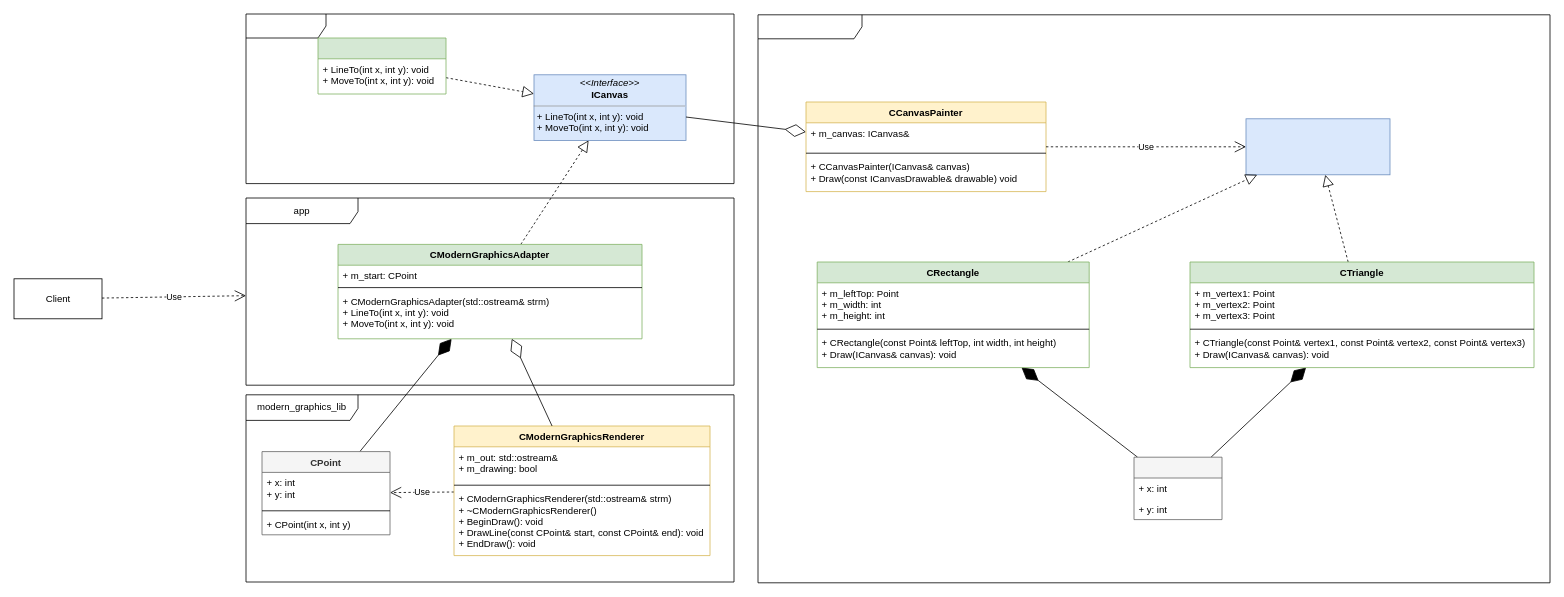
Some shapes in this 1564 by 597 pixel diagram are drawn without their labels. The shapes that lost their labels are listed below. From the top down, each one's box as (x1, y1, x2, y2) in pixels, then its label:
(317, 37, 446, 94): CCanvas
(245, 13, 734, 184): graphics_lib
(1245, 118, 1390, 175): <<Interface>> ICanvasDrawable + Draw(ICanvas& canvas): void
(757, 14, 1550, 583): shape_drawing_lib
(1133, 456, 1222, 520): Point
